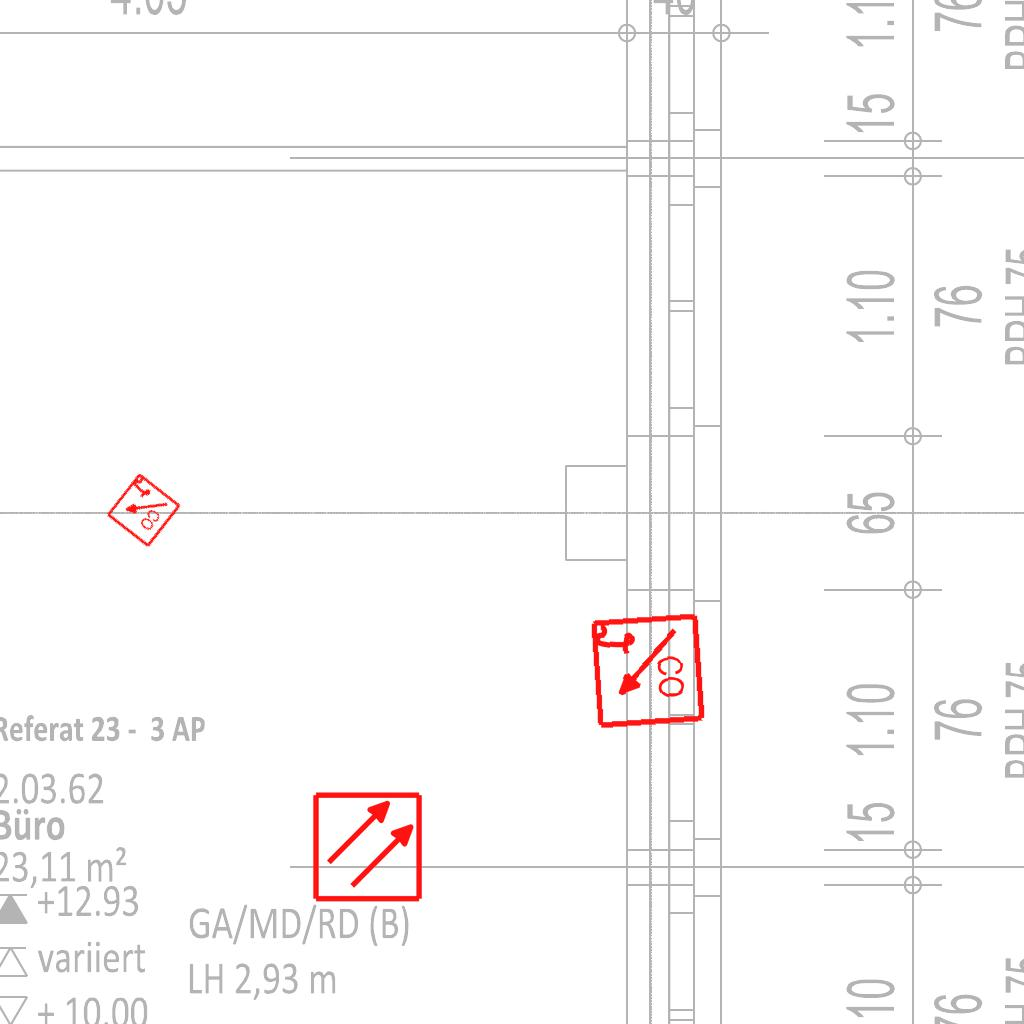RMO_Rauchmelder_optischer: (311, 790, 424, 903)
ROA_Rauchmelder_optisch_mit_Signalgeber_(Sockelsirene): (586, 611, 707, 732), (103, 470, 183, 550)
